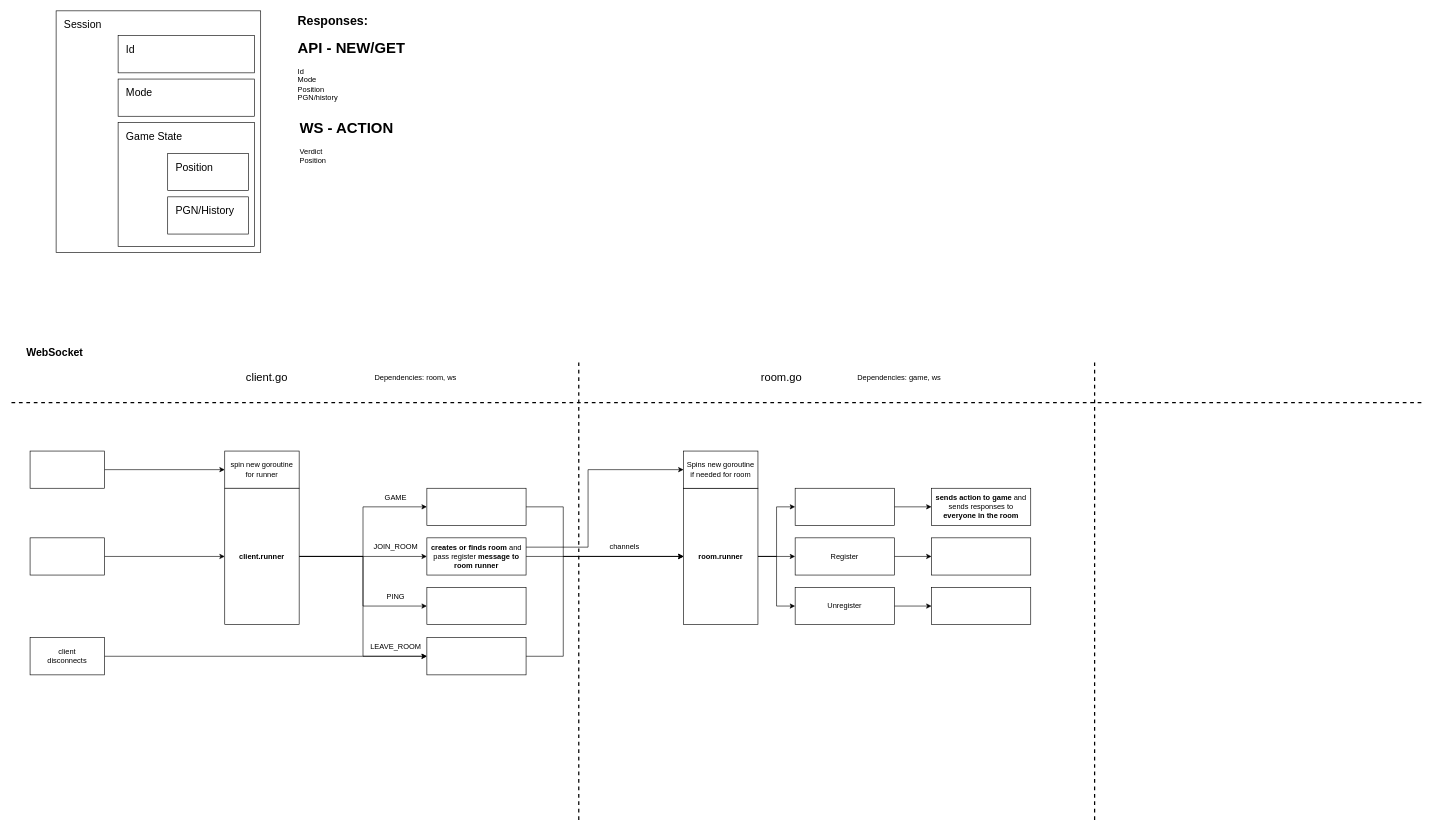
This 1436x833 diagram has some shape labels left out. Here are the shapes that lost their labels. From the top down, the centre of each, then its label:
At (66,469): "client connects".
At (476,506): "find room and pass message to room runner".
At (844,506): "Action".
At (66,556): "client sends message".
At (981,556): "gets status from game , sends it in response and adds client to room map".
At (476,606): "respond pong directly to client".
At (981,606): "deletes client from room map, and tries to send response".
At (476,656): "find room and pass unregister message to room runner".
